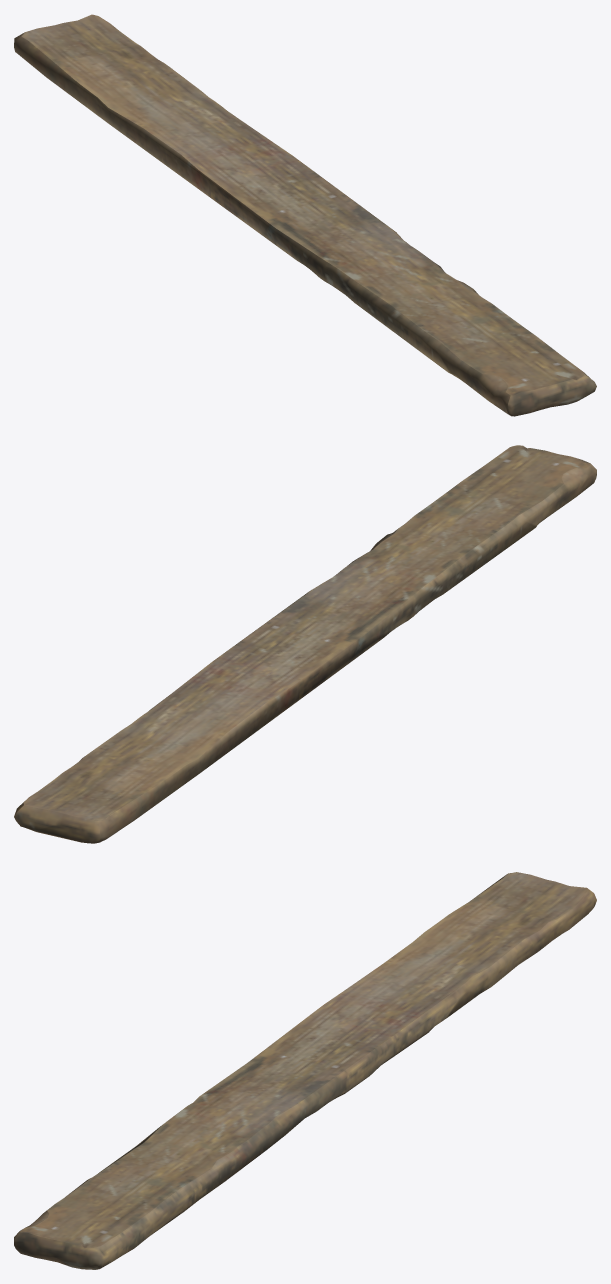
Rendered from SM_Plank_02.gltf.
The picture shows the model from 3 angles, top to bottom: view 1: azimuth 30°, elevation 25°; view 2: azimuth 150°, elevation 25°; view 3: azimuth 330°, elevation 25°; orthographic projection.
Parts seen in each view (by area): view 1: SM_Plank_02_LOD0; view 2: SM_Plank_02_LOD0; view 3: SM_Plank_02_LOD0.
Boxes of the visible parts, x1=… form: SM_Plank_02_LOD0: x1=14, y1=14, x2=596, y2=416; SM_Plank_02_LOD0: x1=14, y1=445, x2=596, y2=843; SM_Plank_02_LOD0: x1=14, y1=872, x2=596, y2=1269.
Size of what is drawn, in the model's own units: 0.1408 by 0.036 by 1.36.
